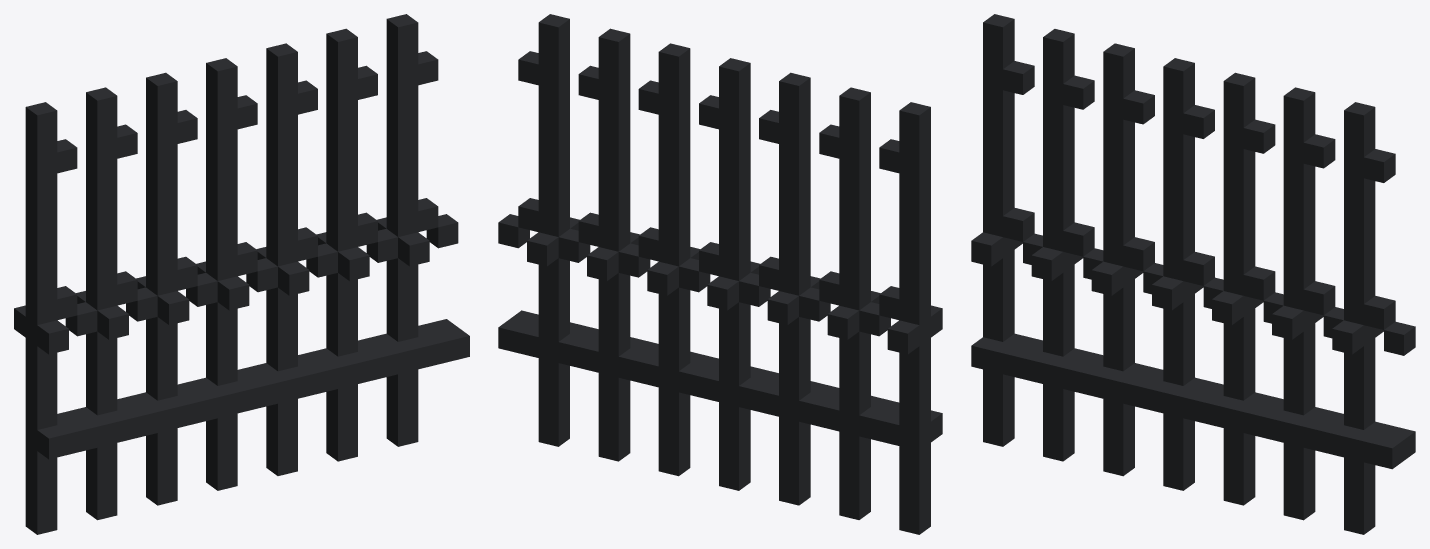
The model's file is iron_fence.obj.
The picture shows the model from 3 angles, left to right: view 1: azimuth 30°, elevation 25°; view 2: azimuth 150°, elevation 25°; view 3: azimuth 330°, elevation 25°; orthographic projection.
Parts seen in each view (by area): view 1: Fence; view 2: Fence; view 3: Fence.
Part boxes in pixels (x1,y1,x2,y2): Fence: [14, 14, 469, 534]; Fence: [498, 14, 942, 534]; Fence: [971, 14, 1415, 534].
Size of the model in its own units: 2.1 by 2 by 0.3.
Materials: 1 (1 with a texture image).
